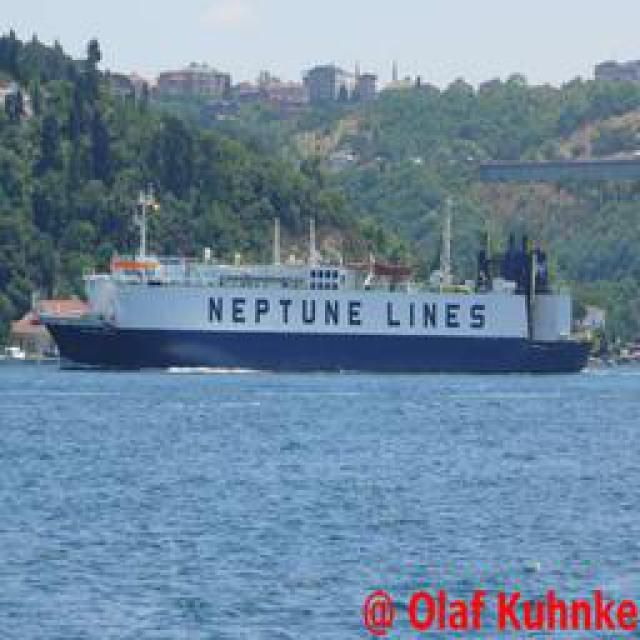Ship: (59, 258, 592, 373)
